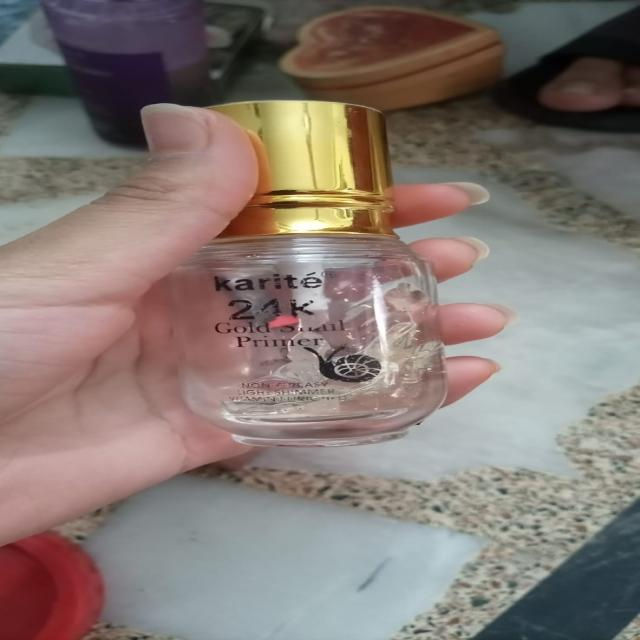primer: (149, 85, 462, 462)
